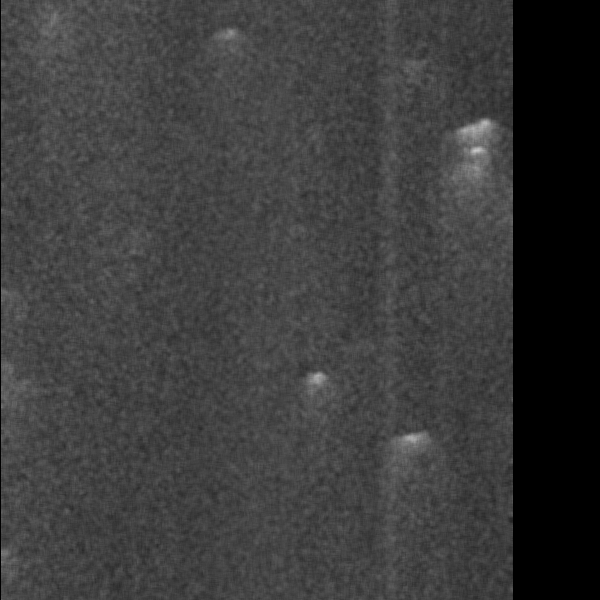spark: (20, 342, 93, 443), (29, 109, 87, 230), (207, 72, 240, 147), (186, 414, 253, 450), (206, 208, 260, 252), (429, 47, 460, 87), (433, 211, 473, 234)
